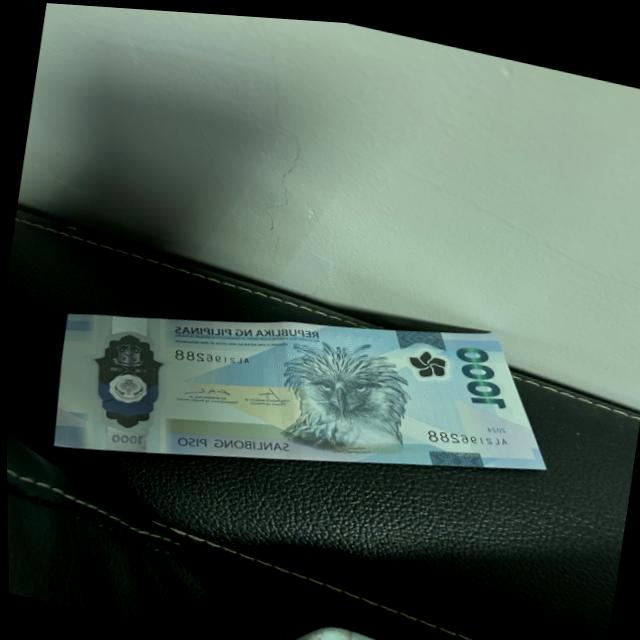clear_window: (85, 318, 180, 440)
eagle: (281, 331, 410, 459)
sampaguita: (402, 337, 452, 381)
